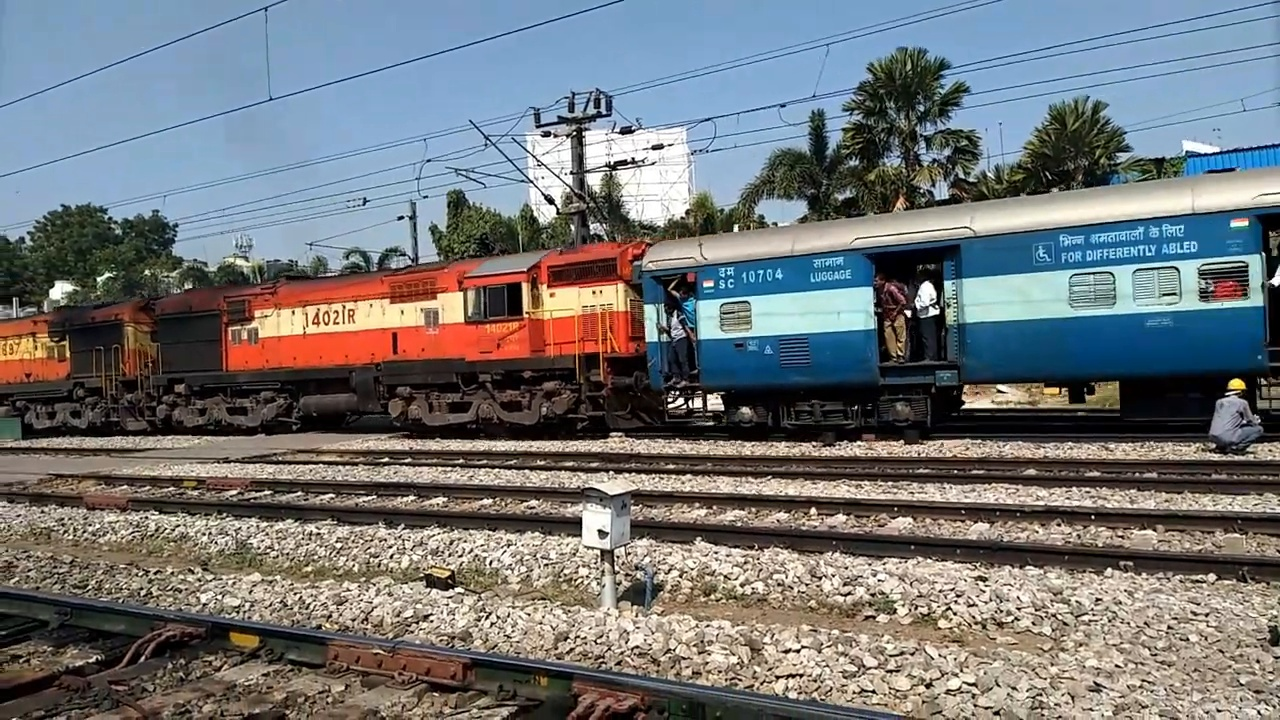Boogie: (740, 266, 791, 290)
Car Type: (1033, 227, 1224, 267), (809, 252, 861, 292)
Engine: (289, 301, 389, 335), (473, 318, 530, 341)
